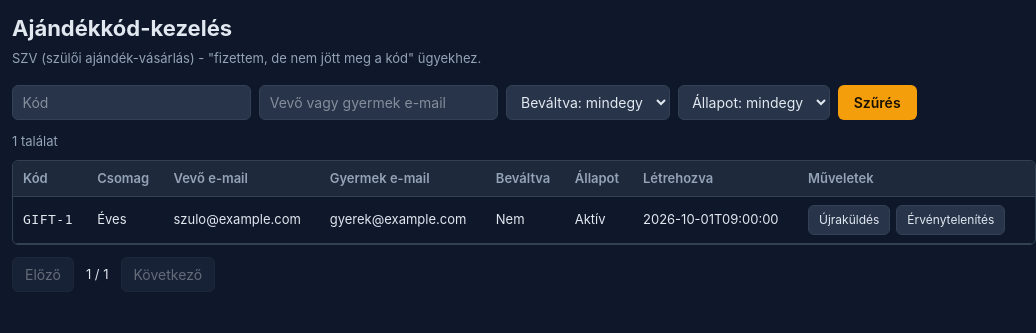
Test: GiftCouponsComponent › érvénytelenítés hibájánál sor-üzenet, nincs újratöltés
Click the button "Érvénytelenítés": x=951, y=220 [896,205,1005,235]
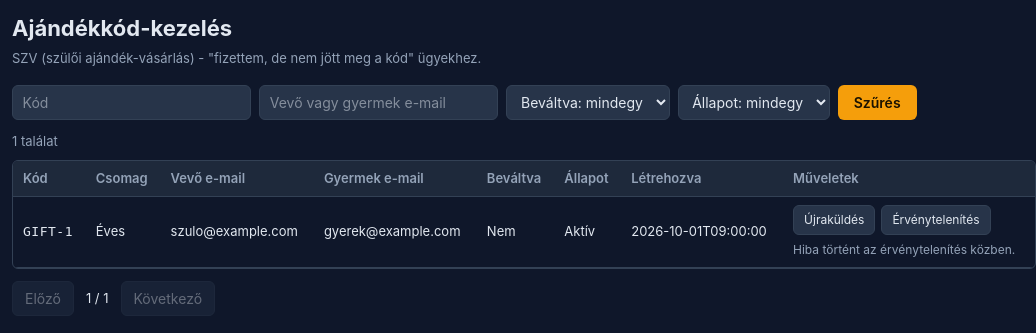
Check: the text with class "row-message" reads "Hiba történt az érvénytelenítés közben.", box [793,242,1015,257]
